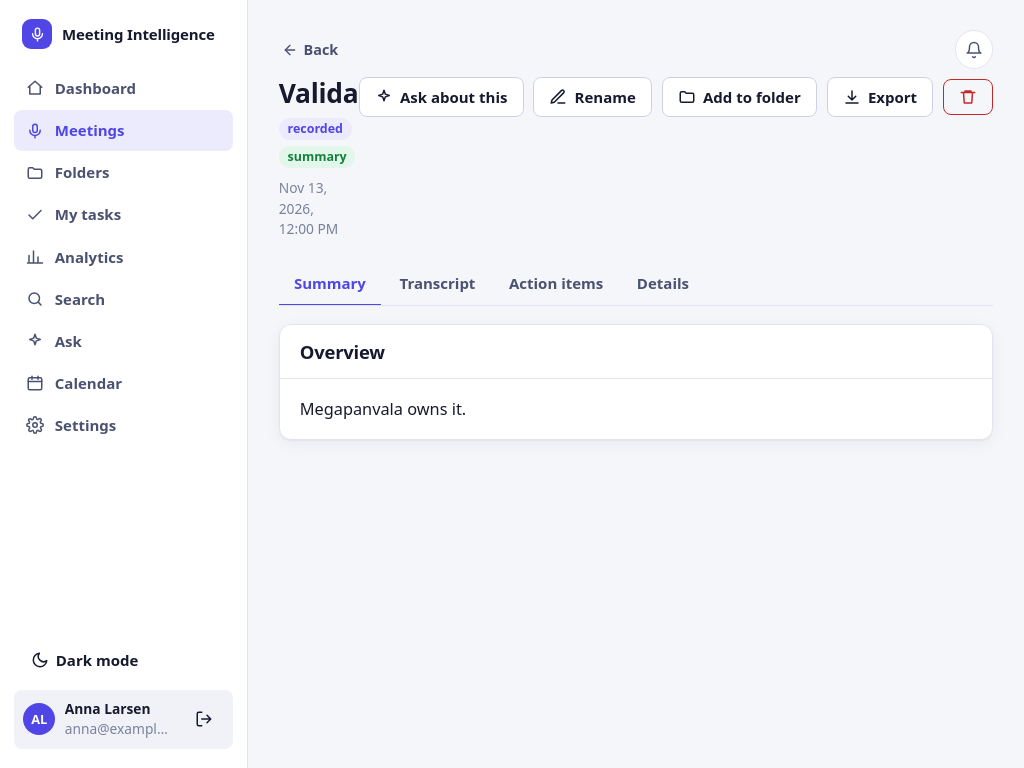
Scenario: correcting the transcript › shows an edit button on every line to the owner only
Click the tab "Transcript".
click(437, 284)  # box x1=384 y1=262 x2=491 y2=306
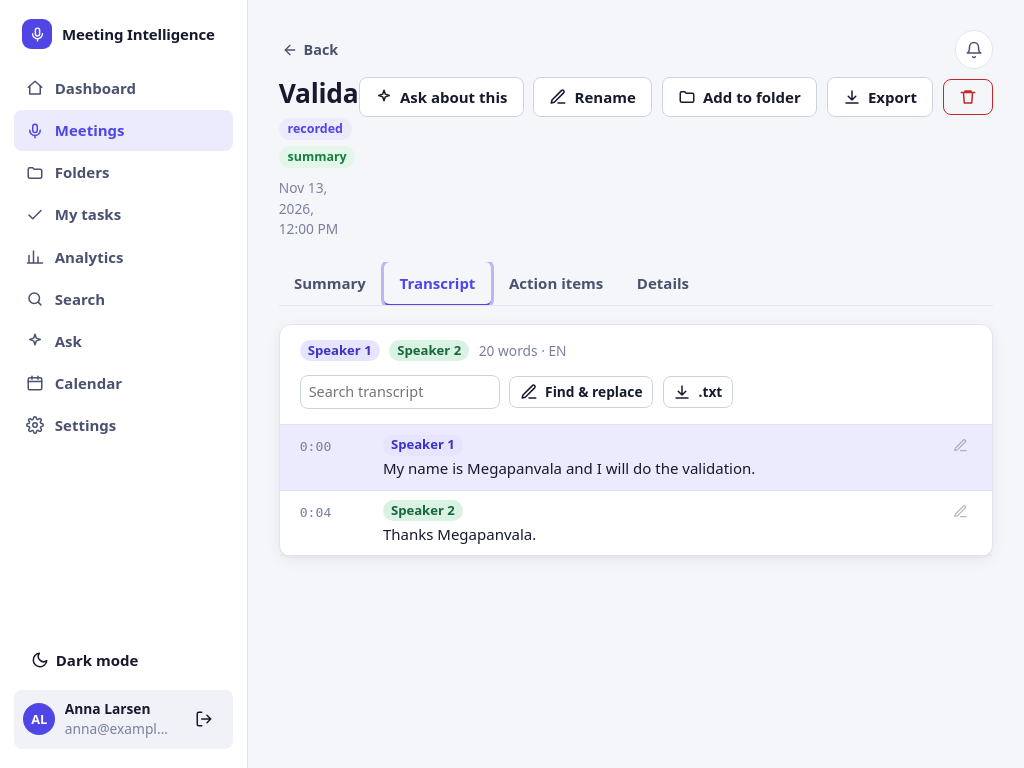
Expected: the text "My name is Megapanvala and I will do the validation." is shown, x1=383 y1=458 x2=755 y2=478
Expected: the number of buttons named "Edit 0:0" is 2, x1=949 y1=434 x2=972 y2=457; x1=949 y1=500 x2=972 y2=523
Expected: the button "Find & replace" is shown, x1=509 y1=376 x2=653 y2=408
